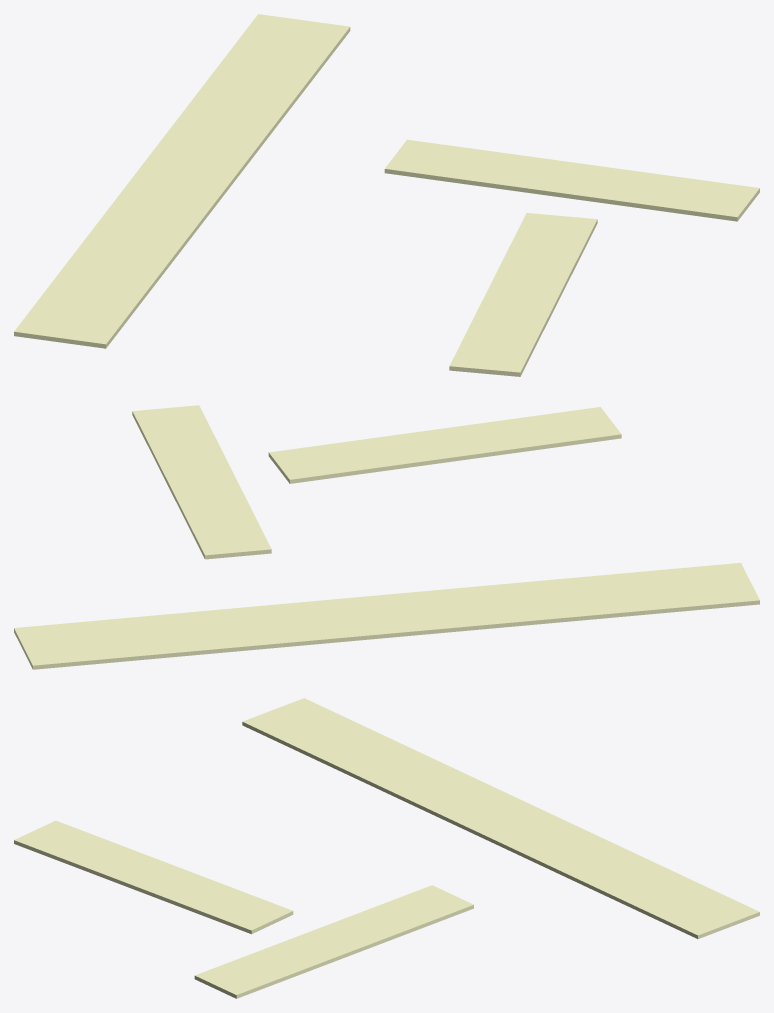
File: marking_curbside_arrow_right_white.glb
The picture shows the model from 3 angles, top to bottom: view 1: azimuth 30°, elevation 25°; view 2: azimuth 150°, elevation 25°; view 3: azimuth 270°, elevation 25°; orthographic projection. The views are drawn at different scales.
Visible parts, largest first — view 1: curbside_right_shaft, curbside_right_head_lower, curbside_right_head_upper; view 2: curbside_right_shaft, curbside_right_head_upper, curbside_right_head_lower; view 3: curbside_right_shaft, curbside_right_head_upper, curbside_right_head_lower.
Boxes of the visible parts, box(x1,y1,x2,y2) form: curbside_right_shaft: box(14, 14, 350, 348); curbside_right_head_lower: box(384, 139, 759, 221); curbside_right_head_upper: box(449, 213, 597, 376); curbside_right_shaft: box(14, 562, 759, 669); curbside_right_head_upper: box(268, 407, 621, 483); curbside_right_head_lower: box(132, 405, 271, 559); curbside_right_shaft: box(242, 698, 759, 938); curbside_right_head_upper: box(14, 820, 293, 934); curbside_right_head_lower: box(194, 885, 473, 998).
Bounding box in the file's own units: 1.01 × 0.006 × 1.07.
